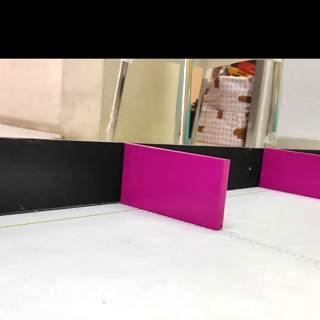xparking: (130, 160, 224, 227), (265, 153, 320, 194)
